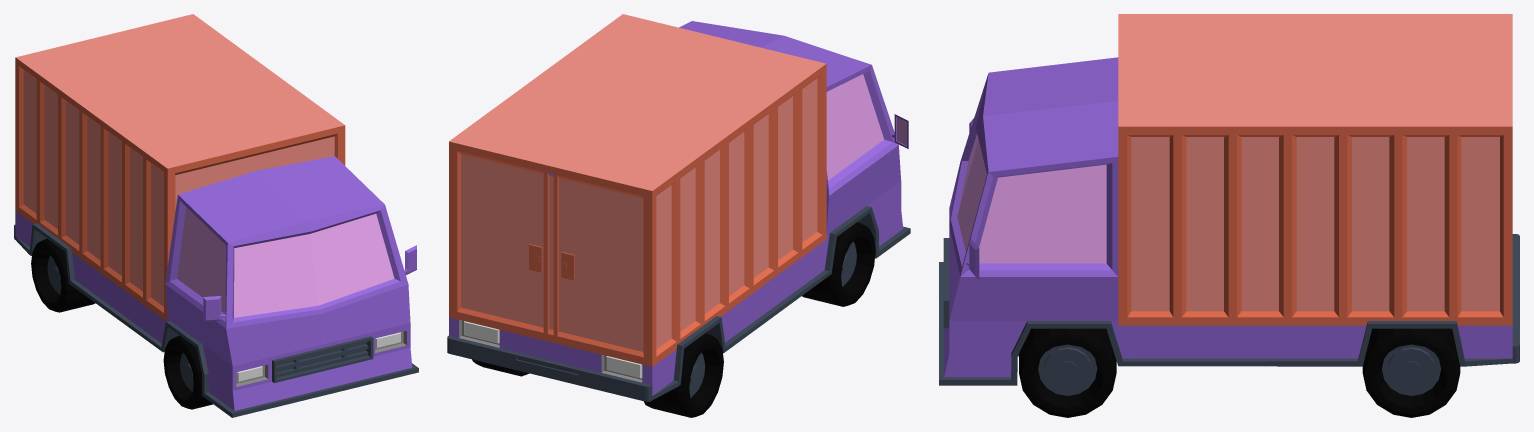
File: truck.fbx
The picture shows the model from 3 angles, left to right: view 1: azimuth 30°, elevation 25°; view 2: azimuth 150°, elevation 25°; view 3: azimuth 270°, elevation 25°; orthographic projection. The views are drawn at different scales.
Parts seen in each view (by area): view 1: Truck, FrontWheel.001, FrontWheel, Mirror; view 2: Truck, FrontWheel.001, FrontWheel, Mirror; view 3: Truck, FrontWheel, FrontWheel.001.
Part boxes in pixels (left/top/right/bottom): Truck: left=14, top=14, right=418, bottom=417; FrontWheel.001: left=31, top=238, right=95, bottom=312; FrontWheel: left=163, top=335, right=212, bottom=409; Mirror: left=203, top=245, right=416, bottom=321; Truck: left=447, top=14, right=910, bottom=401; FrontWheel.001: left=472, top=333, right=723, bottom=417; FrontWheel: left=802, top=222, right=875, bottom=306; Mirror: left=892, top=114, right=908, bottom=148; Truck: left=939, top=14, right=1519, bottom=385; FrontWheel: left=1019, top=328, right=1116, bottom=417; FrontWheel.001: left=1362, top=328, right=1460, bottom=417.
Bounding box in the file's own units: 1577 × 868 × 869.
